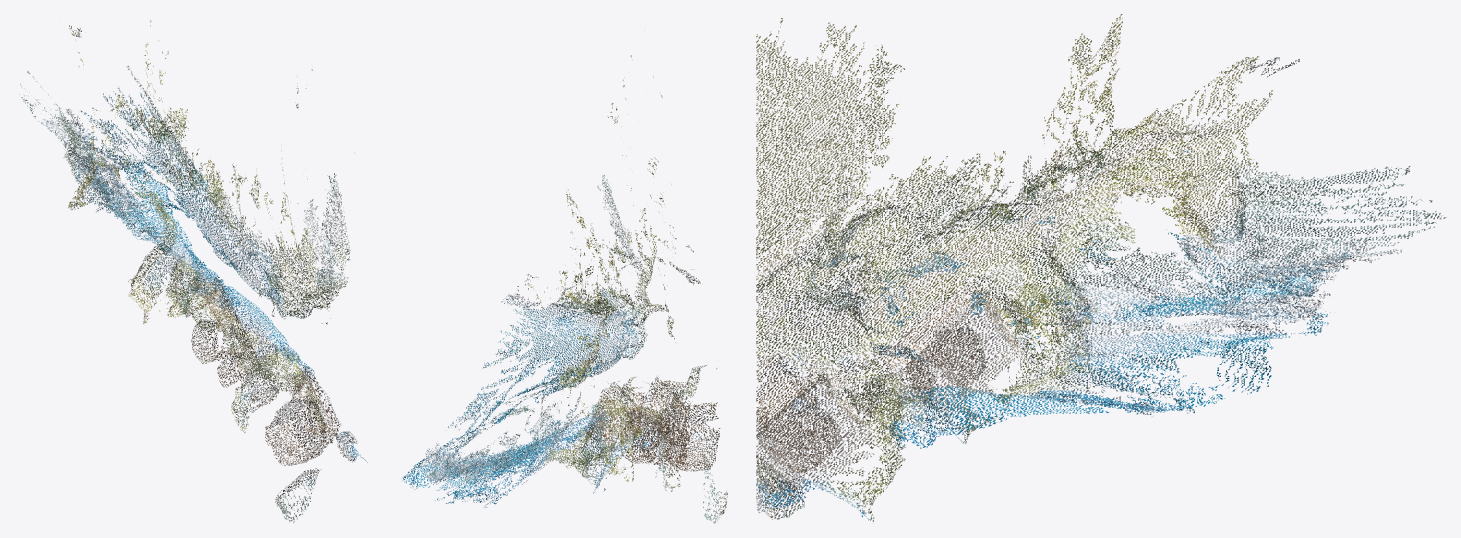
File: hunyuan_scene_001_module_r0_c0.glb
The picture shows the model from 3 angles, left to right: view 1: azimuth 30°, elevation 25°; view 2: azimuth 150°, elevation 25°; view 3: azimuth 270°, elevation 25°; orthographic projection. The views are drawn at different scales.
Parts seen in each view (by area): view 1: hunyuan_scene_001_module; view 2: hunyuan_scene_001_module; view 3: hunyuan_scene_001_module.
Boxes of the visible parts, box(x1,y1,x2,y2) form: hunyuan_scene_001_module: box(19, 20, 367, 523); hunyuan_scene_001_module: box(401, 55, 727, 523); hunyuan_scene_001_module: box(756, 14, 1446, 521).
Bounding box in the file's own units: 4.08 × 13.7 × 15.82.
